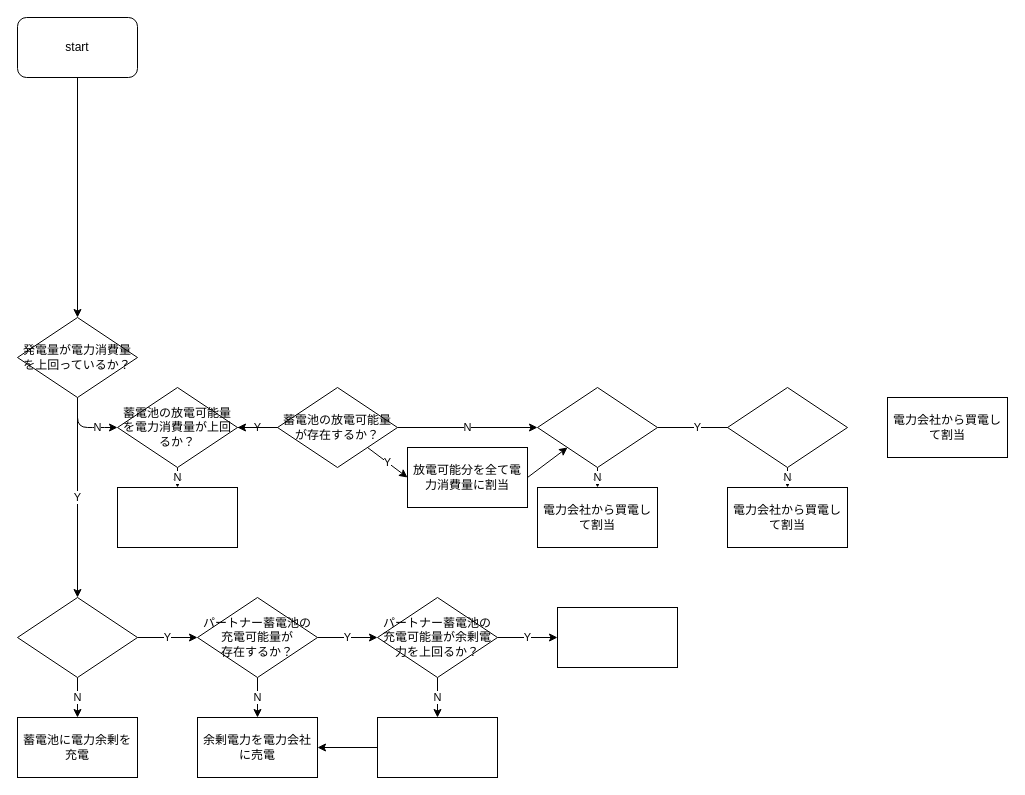
The diagram is 1025 pixels wide and 795 high, and some of its shapes have lost their labels. Here are the shapes that lost their labels. From the top down, the centre of each, then its label:
At (597,427): "パートナー蓄電池の放電可能量が存在するか？".
At (787,427): "パートナー蓄電池の放電可能量が消費電力量を上回るか？".
At (177,517): "蓄電池を放電して電力消費に割当".
At (77,637): "蓄電池の充電可能量を電力余剰が上回るか？".
At (617,637): "余剰電力を全てパートナーに売電".
At (437,747): "パートナー蓄電池の可能分だけパートナーに売電".
